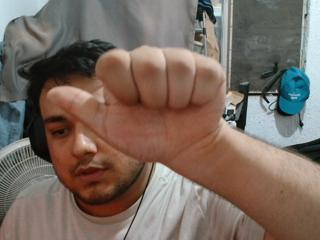Derecha: (43, 44, 248, 174)
